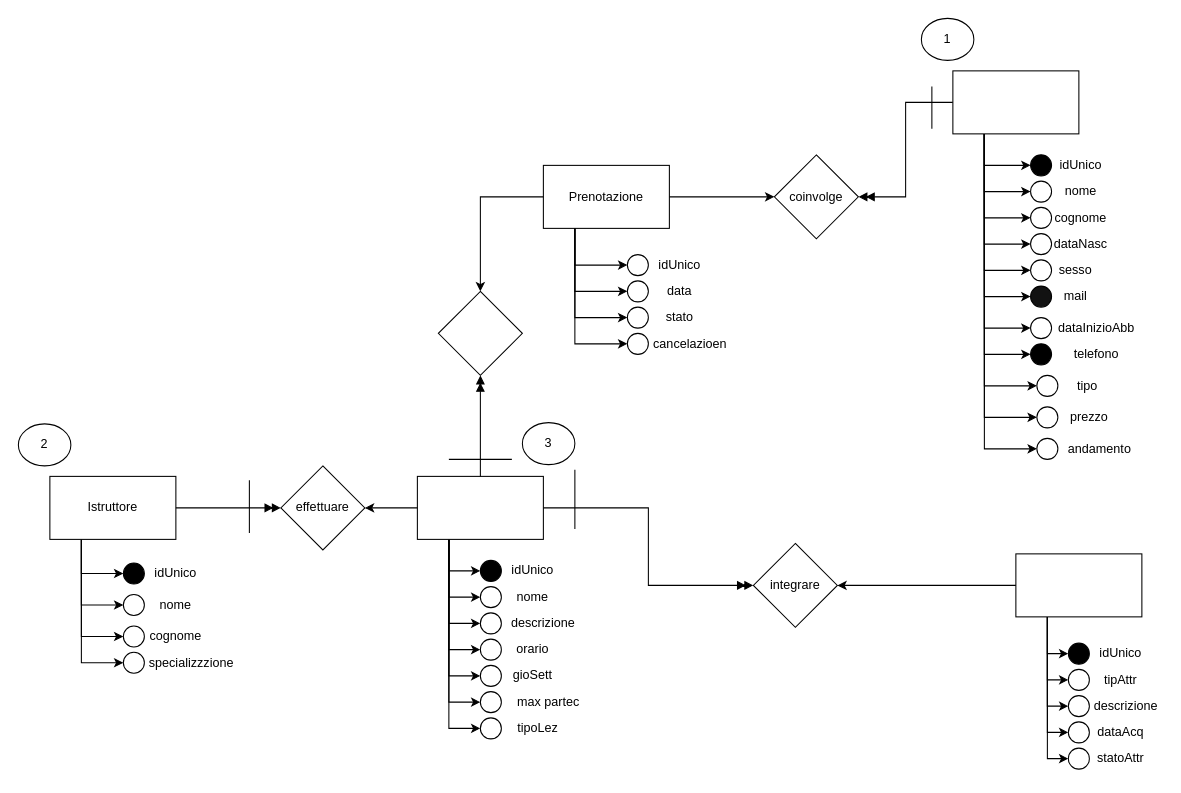
Some shapes in this 1181 by 793 pixel diagram are drawn without their labels. Each missing label, with the box of its shape:
Attrezzatura: (1015, 553, 1142, 617)
Classe: (416, 475, 543, 539)
Membro: (952, 70, 1079, 134)
riceve: (437, 290, 522, 375)
